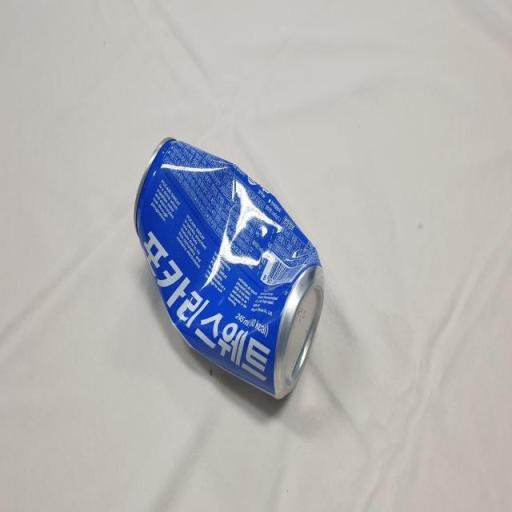metal: (115, 124, 364, 486)
